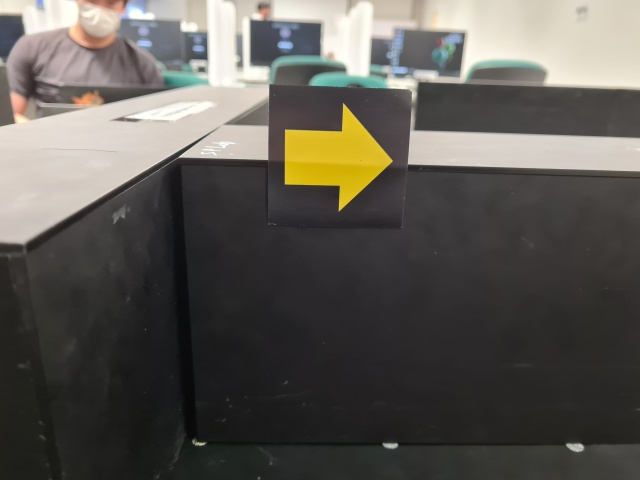right_arrow: (267, 81, 414, 231)
